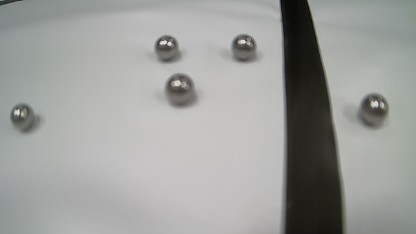ironball: (359, 93, 389, 127), (165, 73, 195, 105), (10, 103, 35, 131), (231, 34, 256, 60), (154, 35, 179, 61)
